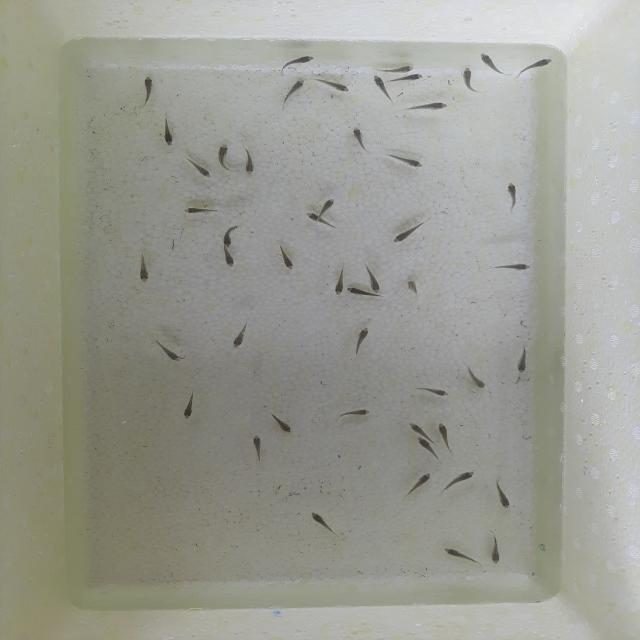fingerling: (386, 148, 429, 172), (132, 248, 156, 286), (400, 100, 450, 117), (348, 125, 373, 158), (444, 468, 479, 491), (152, 339, 184, 364), (332, 405, 380, 420), (305, 509, 333, 534), (212, 141, 235, 169), (356, 325, 375, 356), (408, 470, 436, 491), (459, 65, 479, 94), (514, 346, 532, 378), (318, 77, 351, 94), (478, 52, 502, 75), (282, 79, 305, 103), (524, 52, 558, 68), (348, 286, 382, 302), (225, 323, 245, 349), (181, 205, 221, 218), (384, 228, 414, 245), (328, 270, 346, 298), (318, 196, 344, 215), (388, 71, 427, 83), (252, 434, 268, 463), (441, 547, 474, 561), (217, 249, 240, 269), (412, 434, 432, 457), (436, 420, 451, 450), (490, 538, 503, 572), (370, 75, 390, 97), (304, 212, 328, 230), (218, 231, 245, 247), (381, 62, 417, 74), (272, 416, 293, 436), (504, 184, 521, 208), (417, 385, 451, 397), (280, 251, 298, 272), (470, 370, 487, 392), (182, 397, 198, 420), (497, 487, 512, 511), (280, 57, 316, 67), (244, 152, 258, 176), (372, 264, 382, 297), (194, 165, 214, 181), (402, 422, 424, 436), (162, 126, 175, 147), (142, 74, 150, 106), (490, 264, 530, 270), (408, 276, 420, 294)
